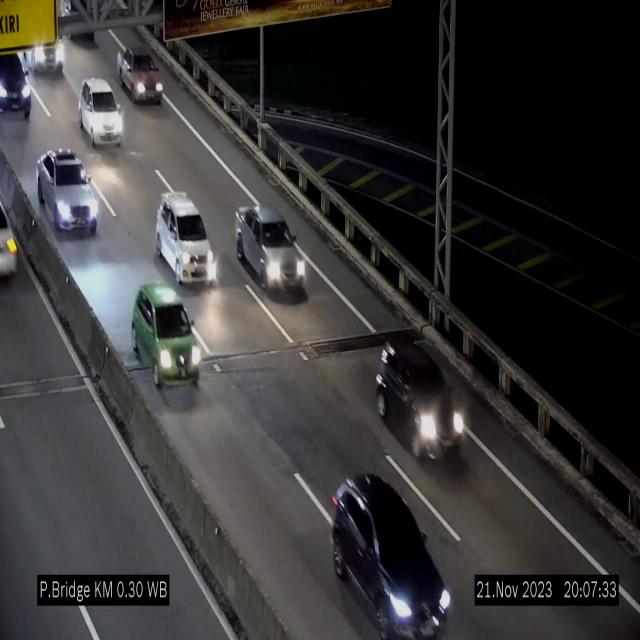Car: (332, 472, 452, 639), (372, 338, 466, 470), (129, 281, 203, 395), (235, 203, 307, 297), (156, 191, 214, 285), (36, 149, 98, 233), (26, 9, 70, 79), (79, 79, 123, 147), (117, 46, 163, 104), (0, 52, 36, 126), (0, 196, 22, 281)
